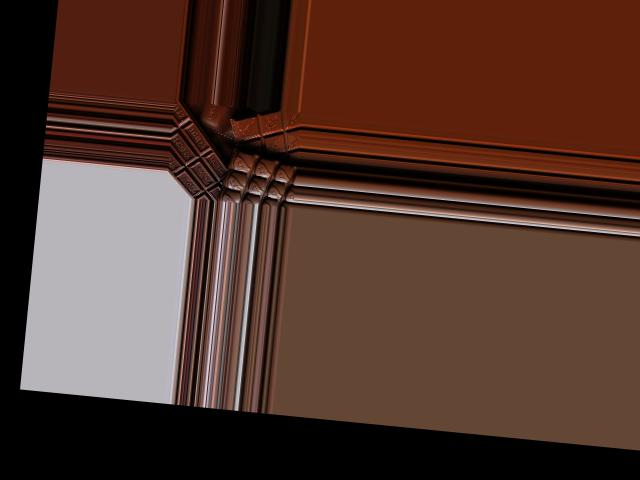chocolate: (226, 111, 302, 174)
